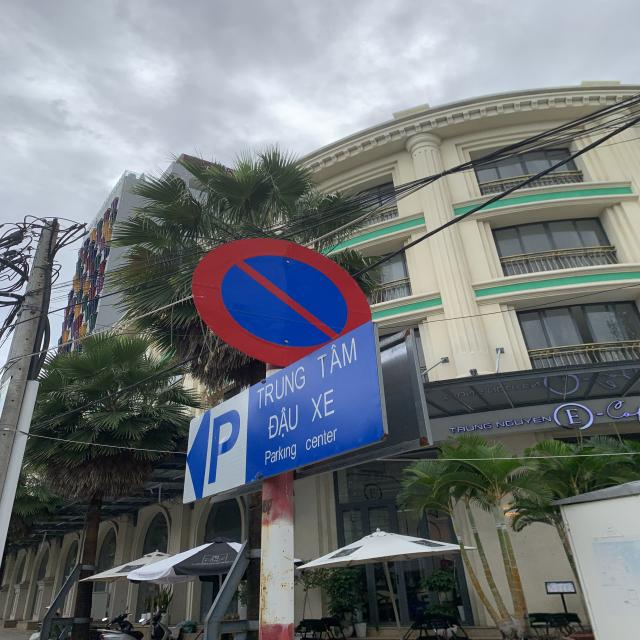Cam_Dau_Xe: (191, 235, 372, 368)
